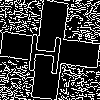H: (25, 25, 66, 74)
